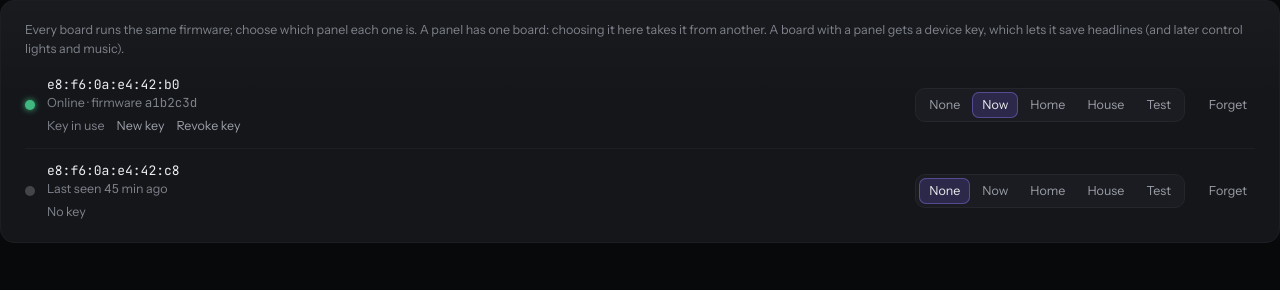
Test: DeskBoardsEditor › says why a change did not save
The width and height of the screenshot is (1280, 290).
What coordinates should you click on to do the following:
click the radio button labelled "Home" in the row of "Last seen 45 min ago"
I would click on:
 (1048, 191)
Its box is [1020, 178, 1075, 204].
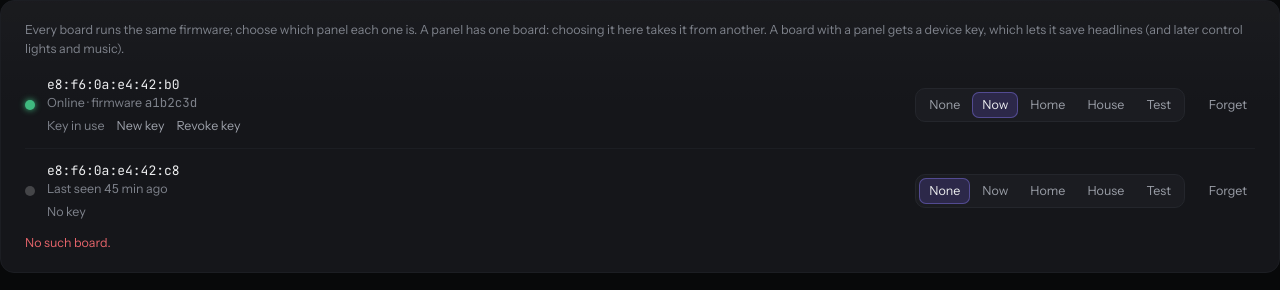
Check: the text "No such board." is shown, box [25, 234, 111, 250]
